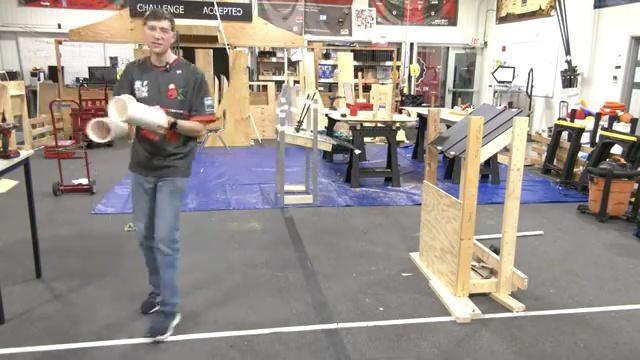CORAL: (107, 93, 169, 131), (85, 116, 128, 143)
